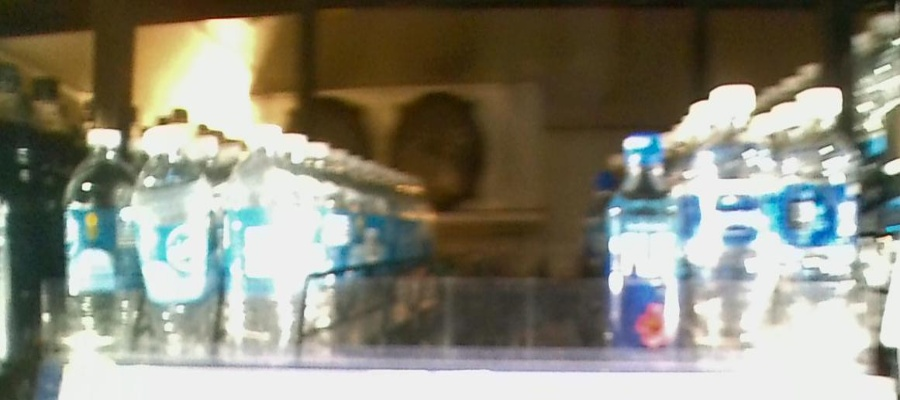bottle: (782, 82, 864, 361), (698, 85, 774, 365), (223, 118, 298, 365), (606, 129, 683, 362), (141, 120, 212, 360), (63, 128, 133, 353)
